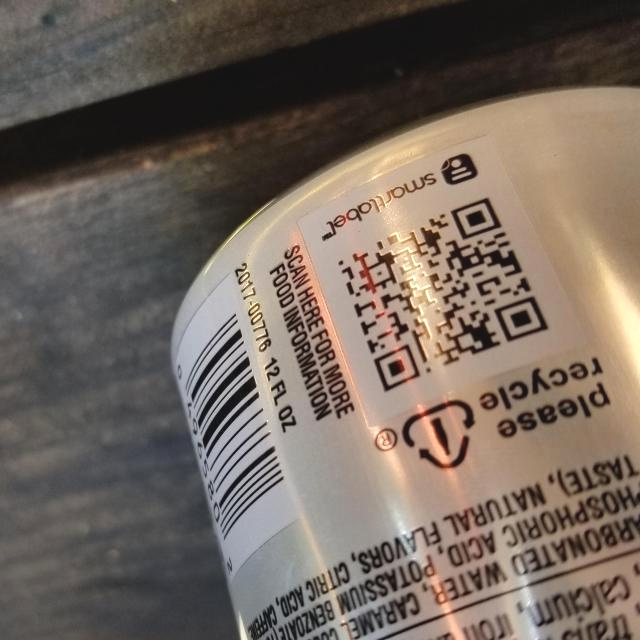qr-code: (323, 190, 559, 408)
